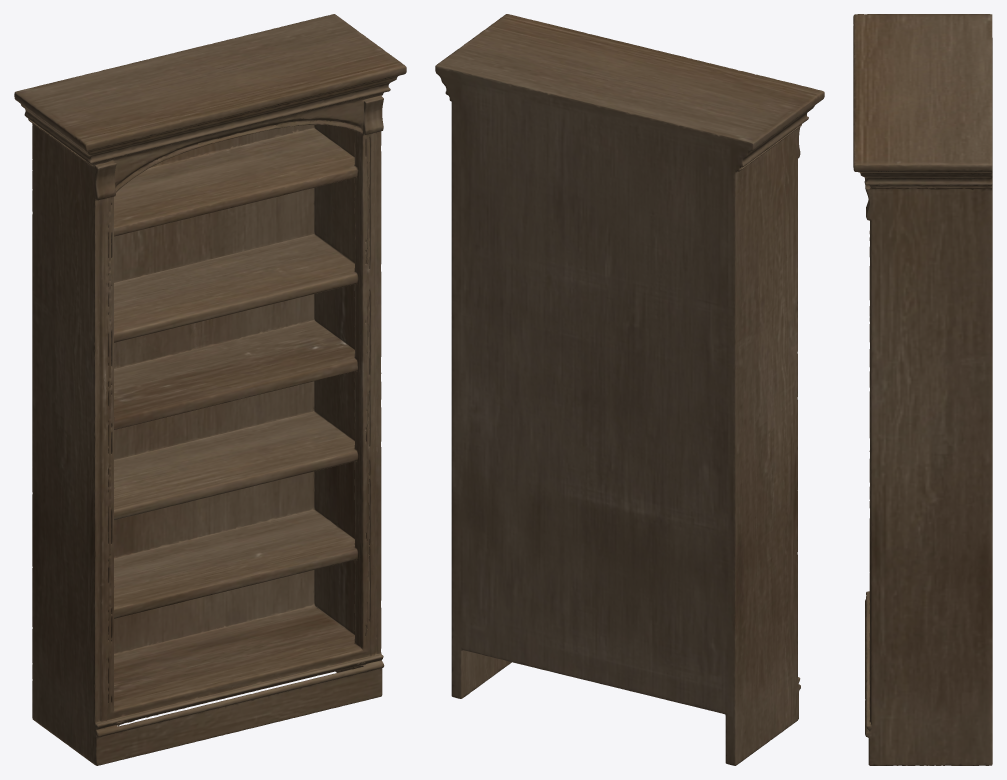
Rendered from bookshelf_wooden.glb.
The picture shows the model from 3 angles, left to right: view 1: azimuth 30°, elevation 25°; view 2: azimuth 150°, elevation 25°; view 3: azimuth 270°, elevation 25°; orthographic projection. The views are drawn at different scales.
Visible parts, largest first — view 1: world; view 2: world; view 3: world.
Part boxes in pixels (box(x1,y1,x2,y2)): world: box(14, 14, 406, 765); world: box(435, 14, 824, 765); world: box(853, 14, 992, 765).
Bounding box in the file's own units: 0.5326 × 1 × 0.2073.
1 material, 1 textured.
